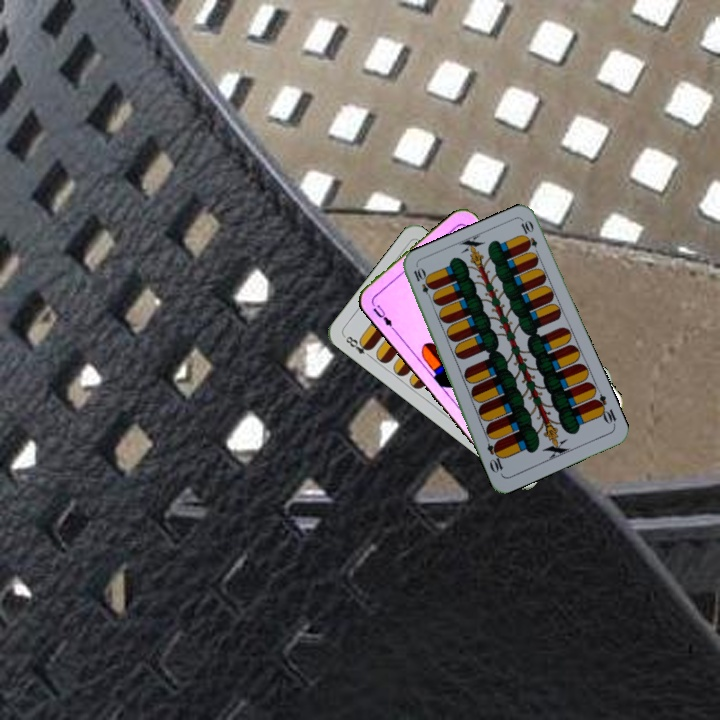E10: (590, 390, 619, 429), (409, 264, 436, 303)
E8: (341, 332, 375, 361)
EU: (367, 293, 396, 331)
